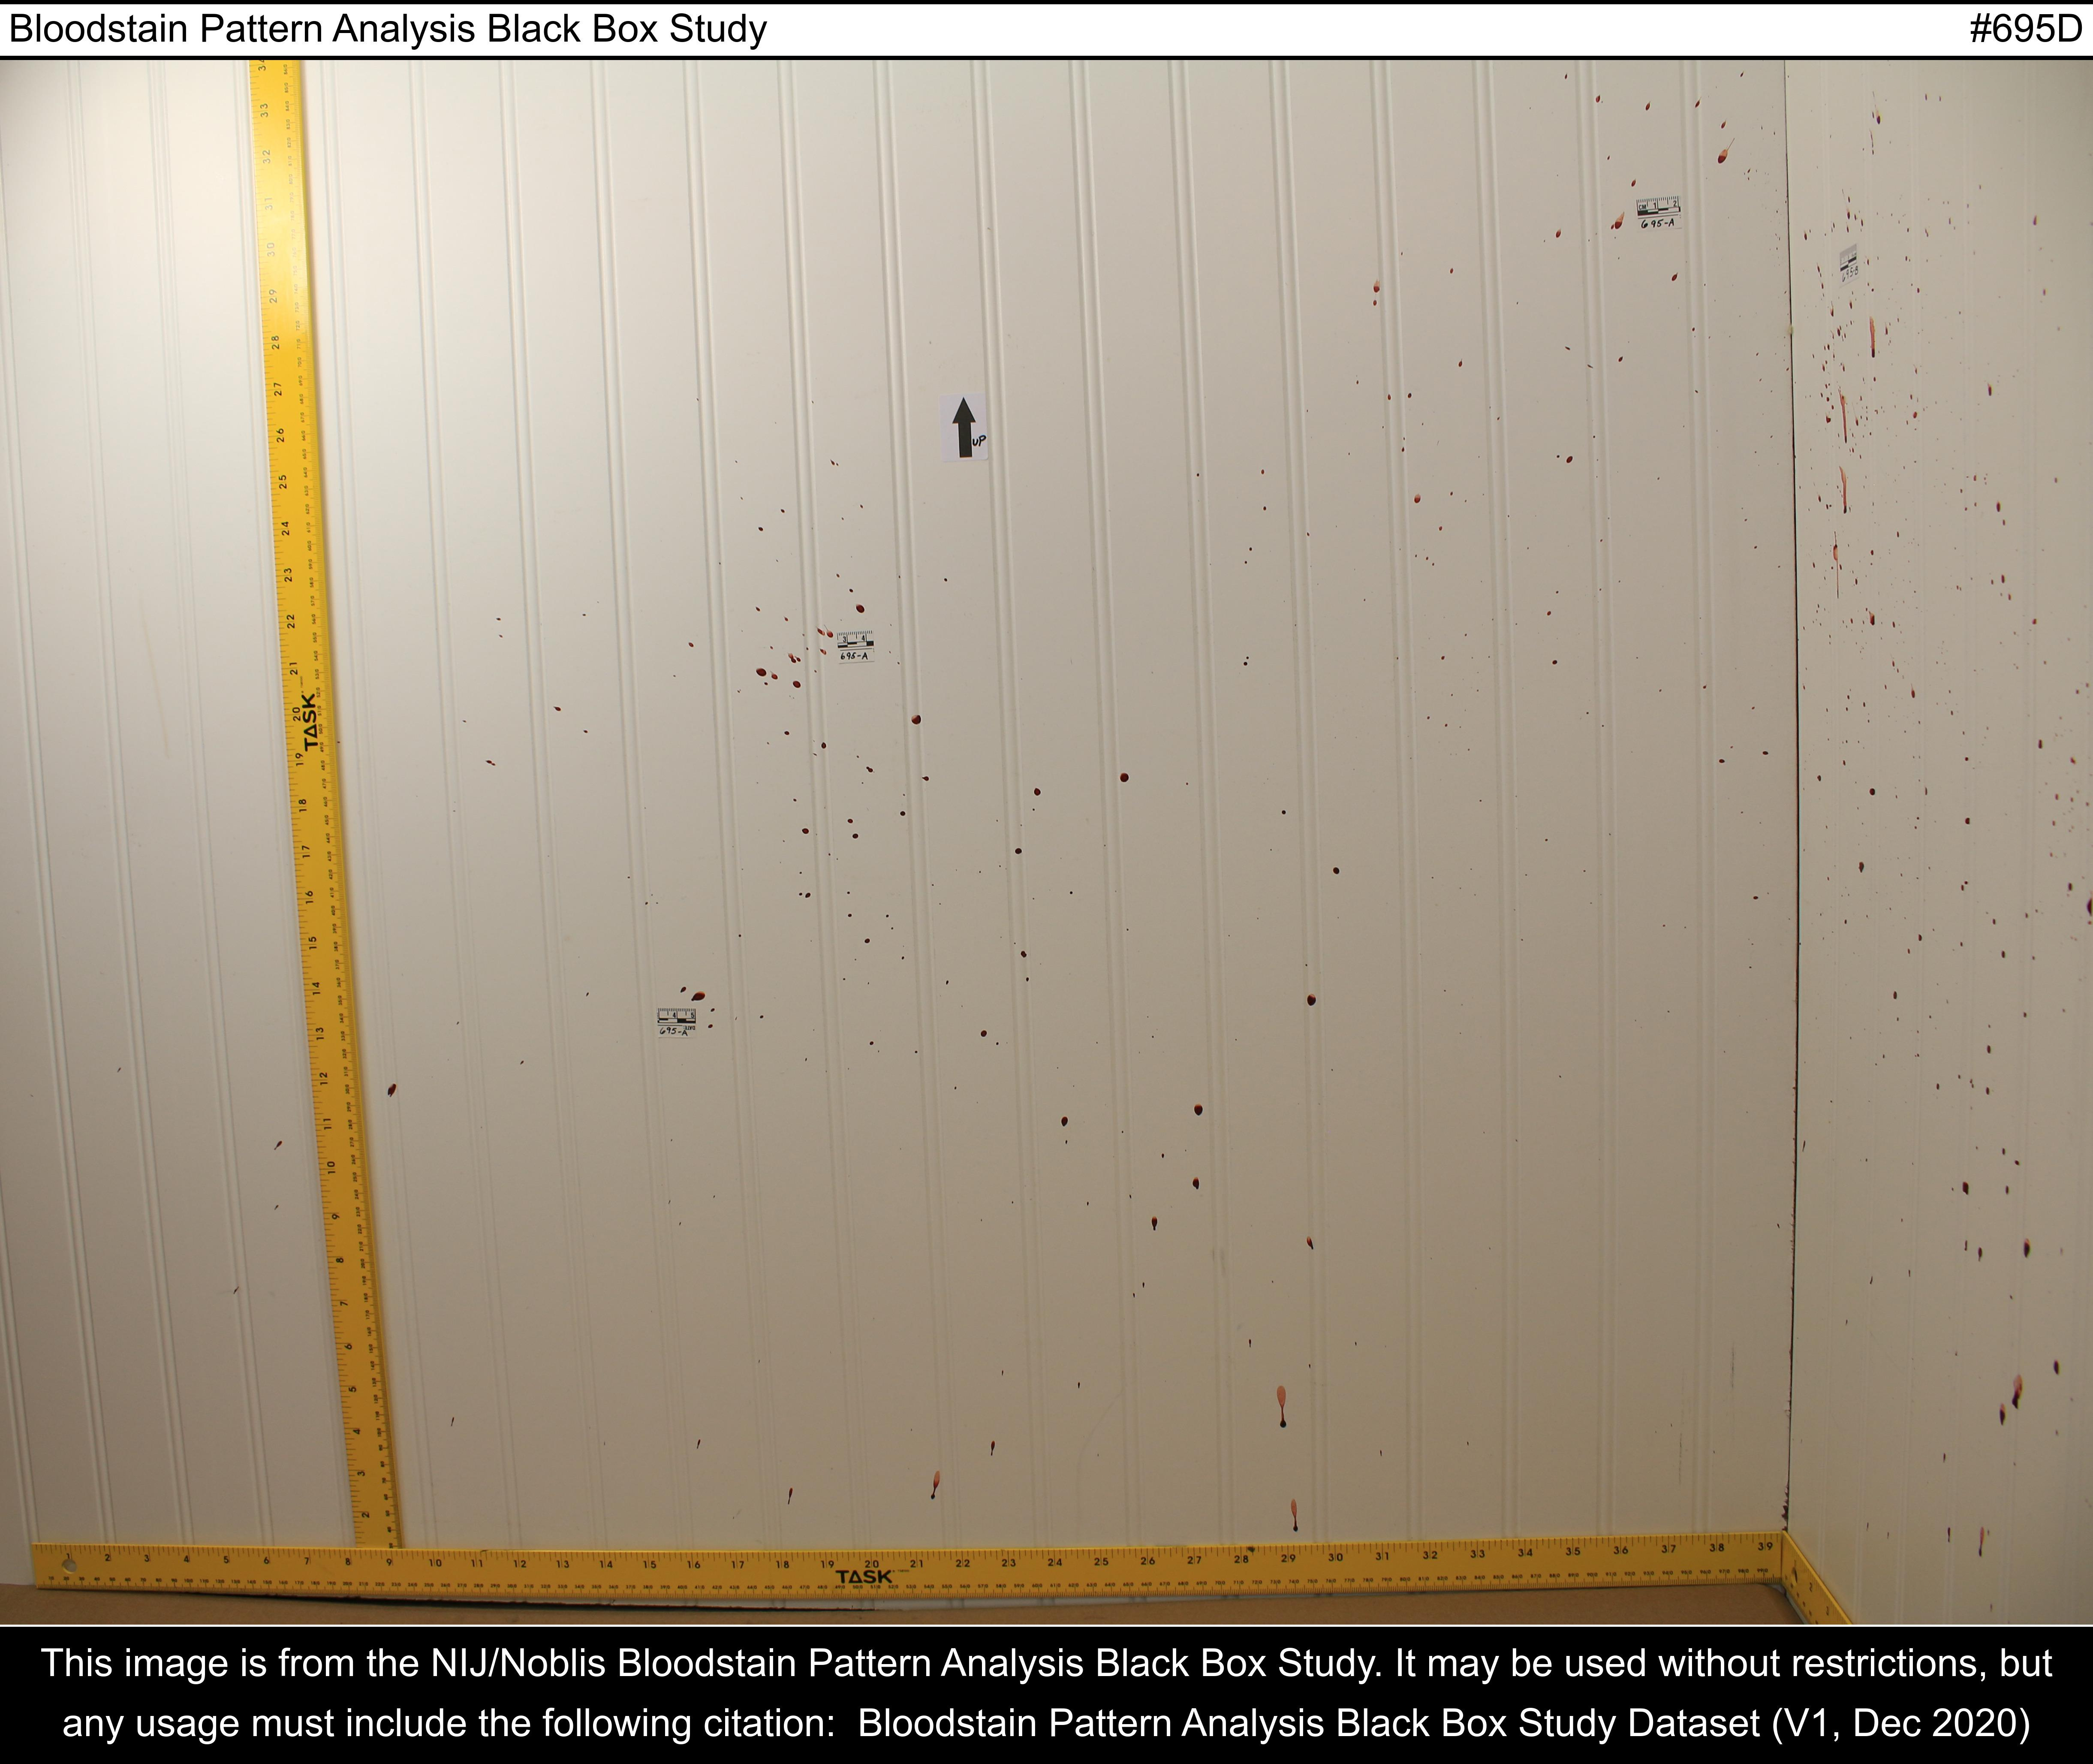Impact: (399, 196, 1475, 1558), (1559, 68, 2086, 1458)
